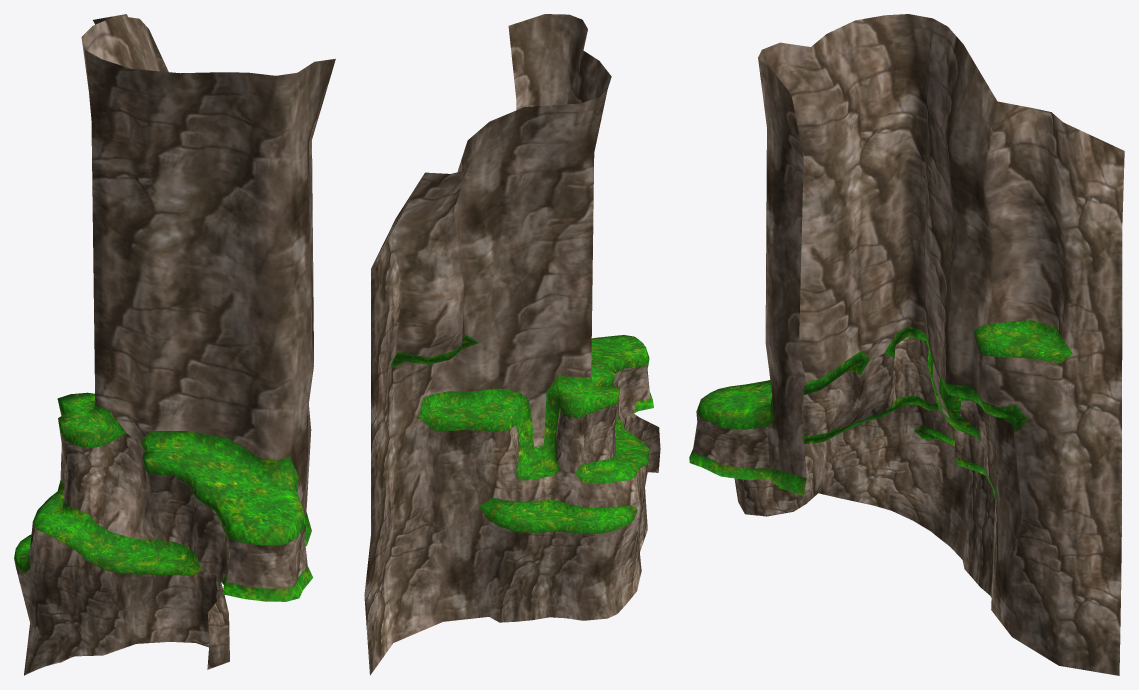
The model's file is EKH_ENTRANCE_PS_EN_ROCK_36354__GX.fbx.
The picture shows the model from 3 angles, left to right: view 1: azimuth 30°, elevation 25°; view 2: azimuth 150°, elevation 25°; view 3: azimuth 270°, elevation 25°; orthographic projection. The views are drawn at different scales.
Parts seen in each view (by area): view 1: EKH_ENTRANCE_PS_EN_ROCK_36354__GX; view 2: EKH_ENTRANCE_PS_EN_ROCK_36354__GX; view 3: EKH_ENTRANCE_PS_EN_ROCK_36354__GX.
Boxes of the visible parts, bbox=[...] form: EKH_ENTRANCE_PS_EN_ROCK_36354__GX: bbox=[14, 14, 335, 675]; EKH_ENTRANCE_PS_EN_ROCK_36354__GX: bbox=[364, 14, 660, 675]; EKH_ENTRANCE_PS_EN_ROCK_36354__GX: bbox=[689, 14, 1124, 675].
Size of the model in its own units: 80681 by 227693 by 149718.
2 materials, 2 textured.
